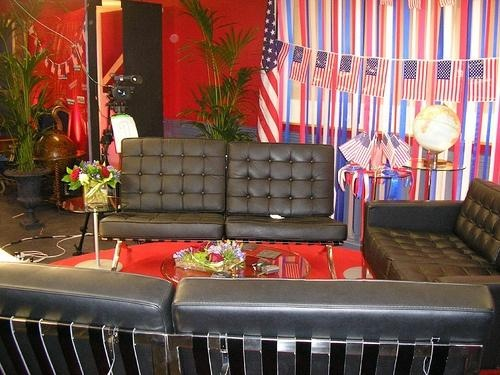pottedplant: (3, 2, 64, 230), (173, 1, 266, 142)
sofa: (1, 262, 496, 374), (101, 138, 348, 279), (361, 177, 500, 286)
